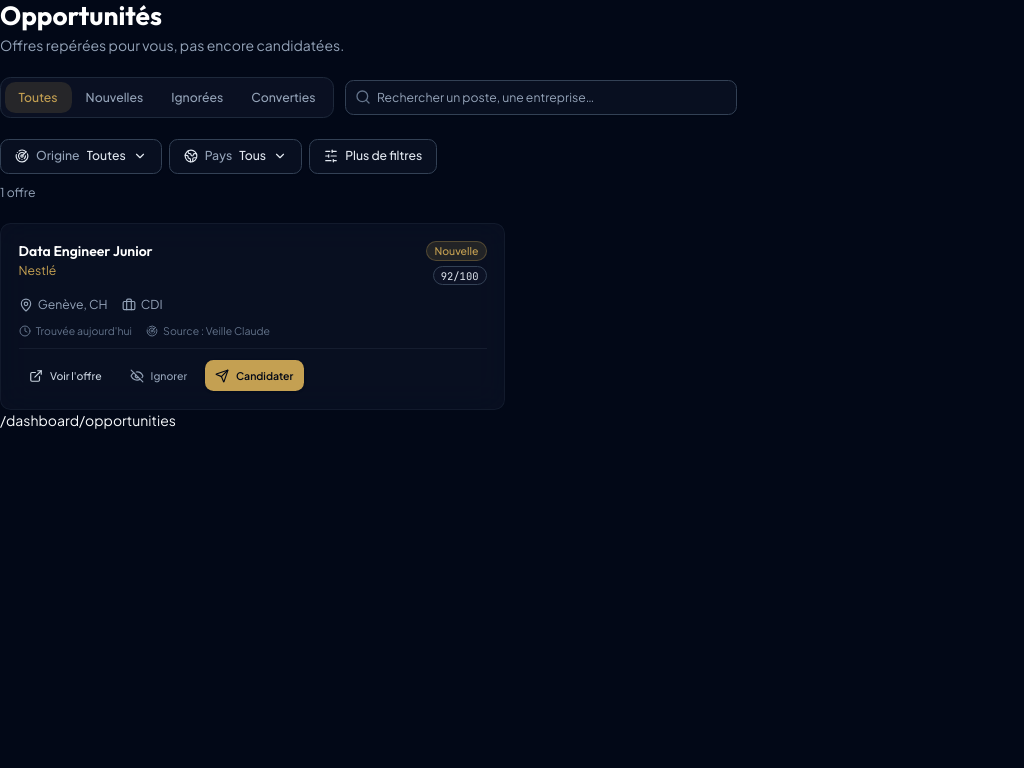
it: Opportunités — filtres et URL › facettes indisponibles : la liste reste utilisable
Expected: the element with test id "opportunity-card-opp-1" is shown, 0,222 -> 505,410
Step 1. Click the button with test id "filter-origin-trigger" → click(81, 156), box 0,138 -> 162,174
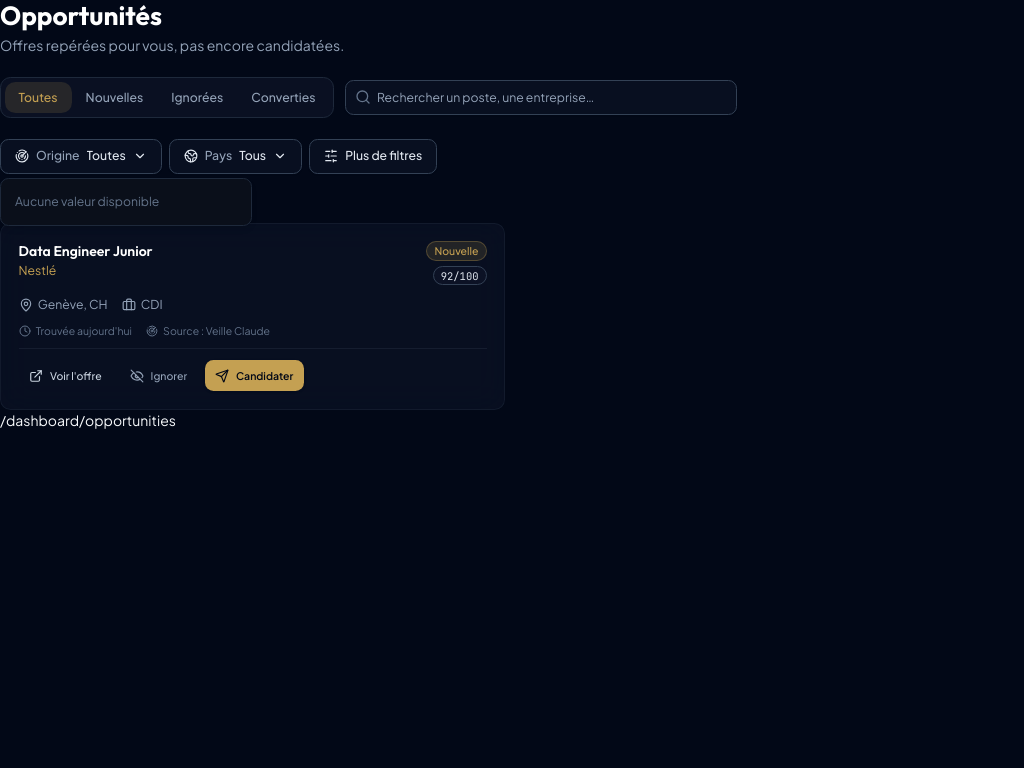
Expected: the text "Aucune valeur disponible" is shown, 15,193 -> 159,209
